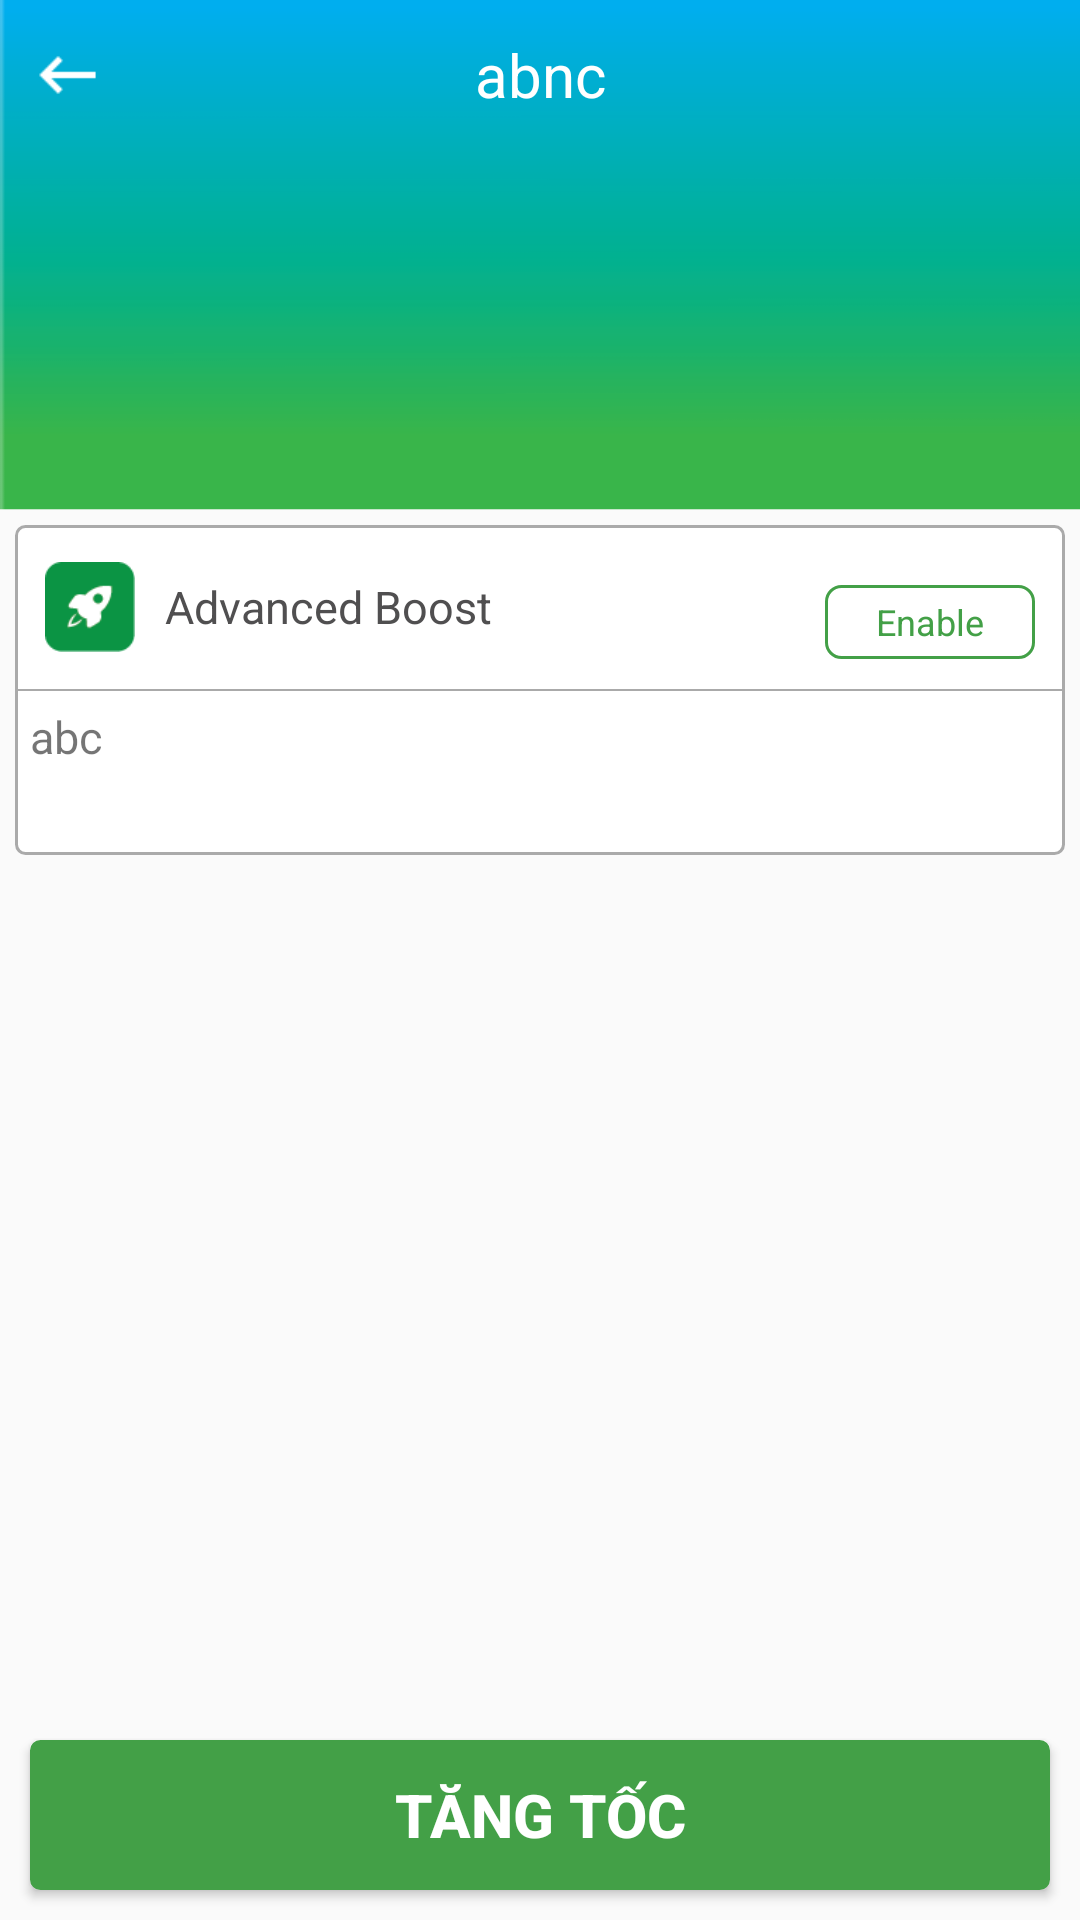

Named icons in this screenshot (1080w x 1920h) and their bounding boxes, bbox=(x1, y1, x2, y2):
back: bbox=(30, 30, 105, 94)
